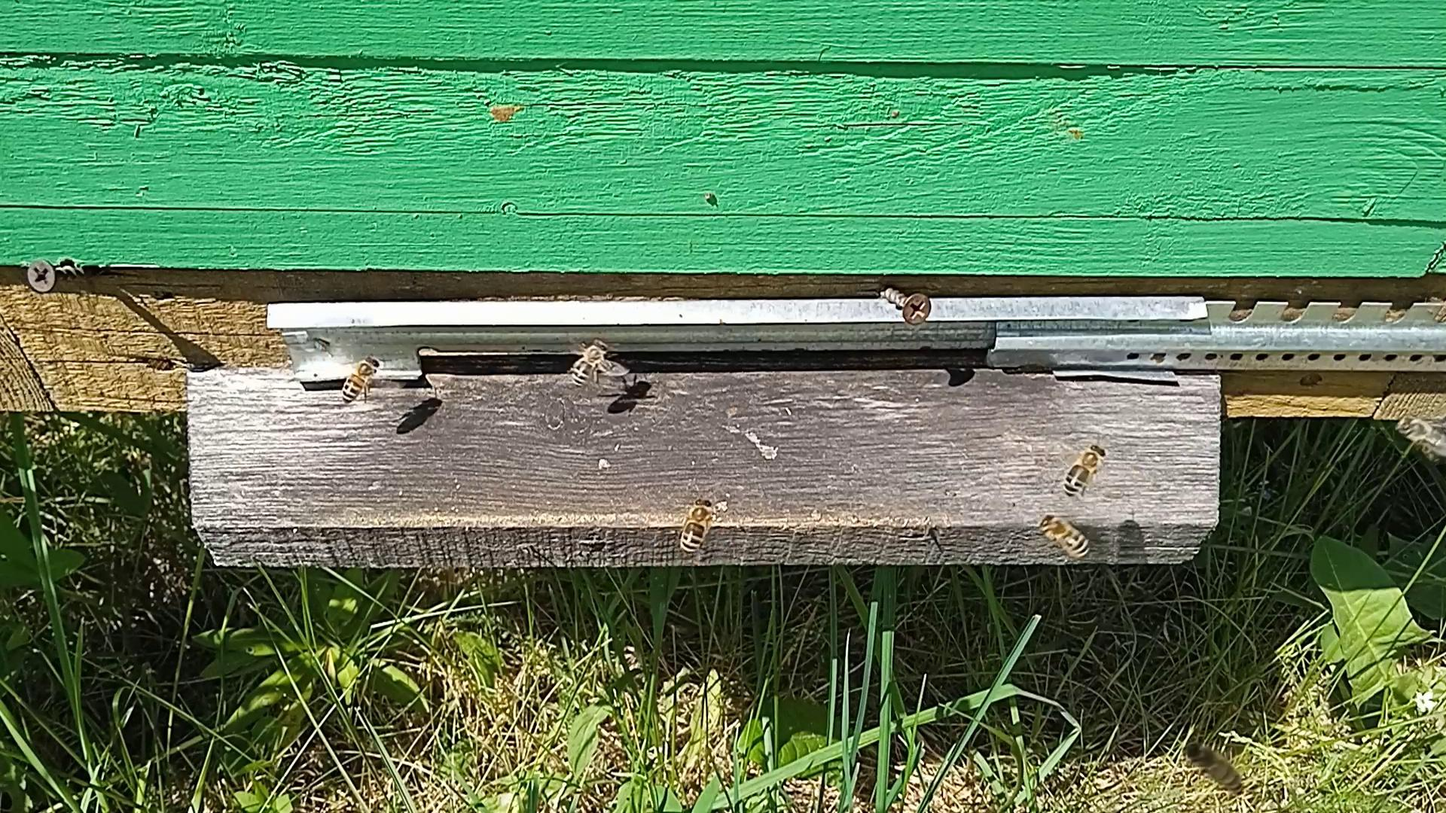worker-bee: (1184, 743, 1245, 795), (1063, 441, 1108, 497), (1038, 514, 1091, 559), (679, 496, 718, 555), (1396, 415, 1446, 459), (341, 355, 381, 404), (570, 340, 610, 387)
